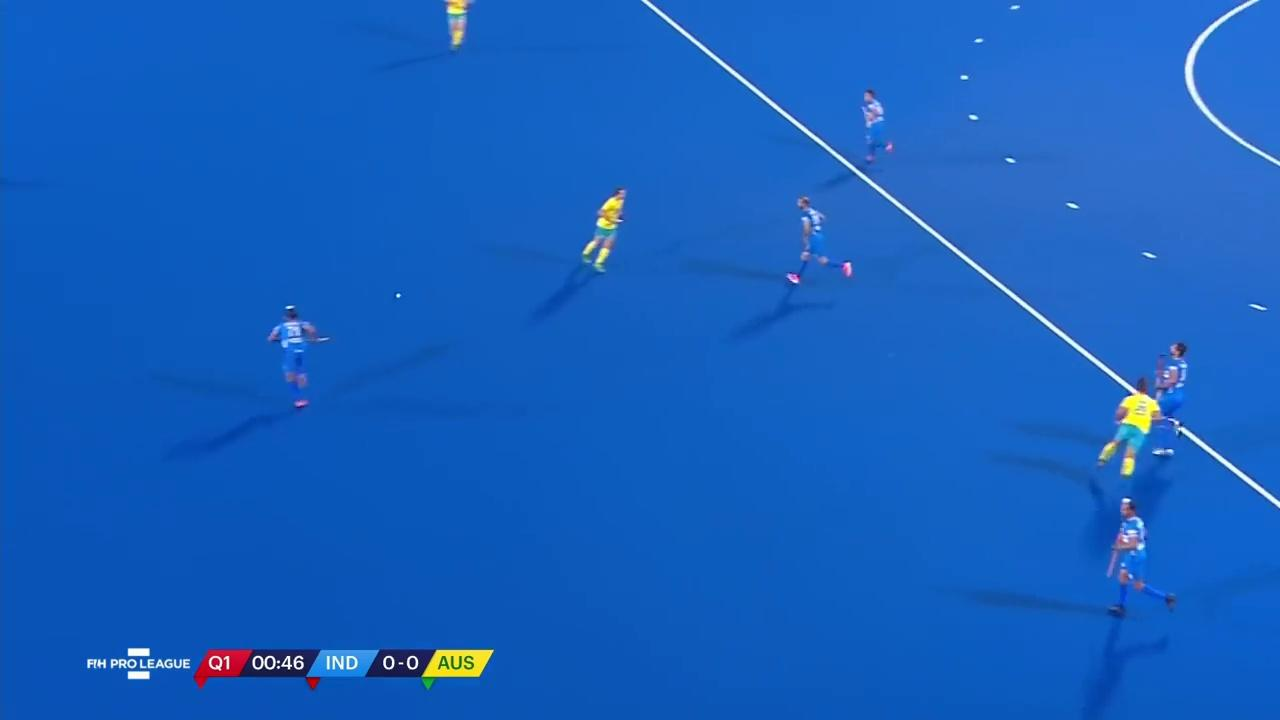ball: (391, 288, 406, 304)
